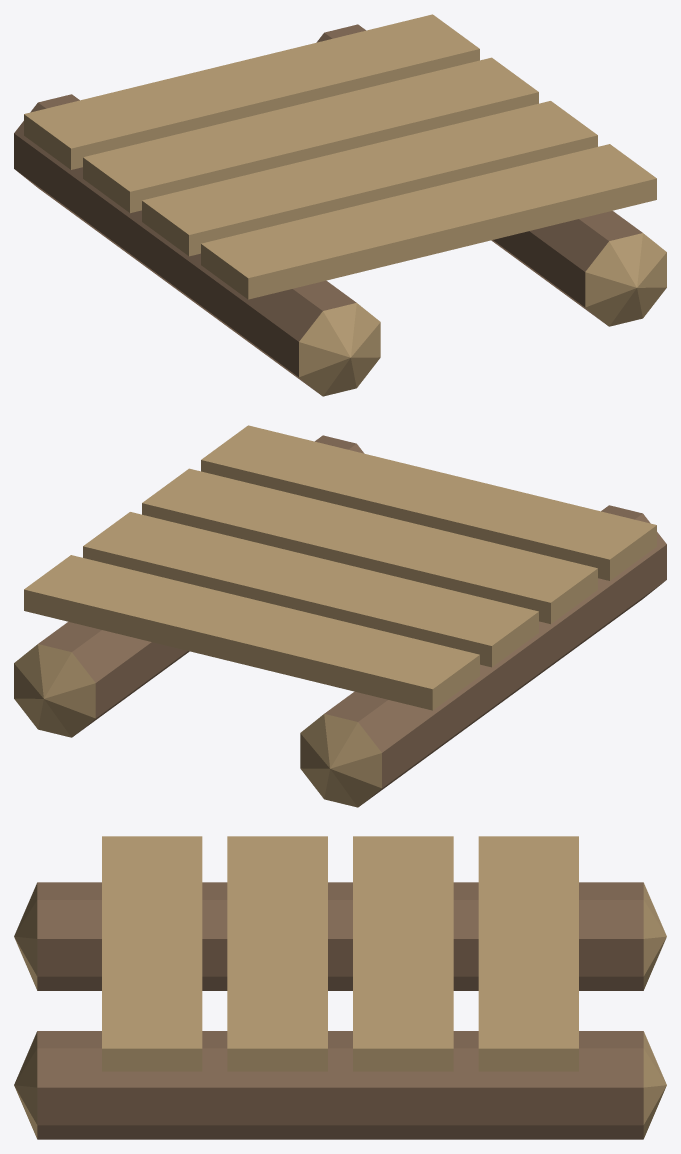
The model's file is Beach_Prop_Docks_Straight.obj.
The picture shows the model from 3 angles, top to bottom: view 1: azimuth 30°, elevation 25°; view 2: azimuth 150°, elevation 25°; view 3: azimuth 270°, elevation 25°; orthographic projection. The views are drawn at different scales.
Visible parts, largest first — view 1: object2, object1, object3, object6, object5, object4; view 2: object3, object6, object2, object1, object5, object4; view 3: object4, object5, object1, object2, object3, object6.
Boxes of the visible parts, x1,y1,x2,y2 form: object2: [201, 144, 656, 299]; object1: [83, 57, 538, 213]; object3: [24, 14, 479, 169]; object6: [142, 101, 597, 256]; object5: [14, 94, 380, 396]; object4: [316, 24, 666, 326]; object3: [24, 555, 479, 710]; object6: [142, 468, 597, 624]; object2: [201, 425, 656, 580]; object1: [83, 512, 538, 667]; object5: [300, 505, 666, 807]; object4: [14, 435, 364, 737]; object4: [14, 1031, 666, 1139]; object5: [14, 882, 666, 990]; object1: [353, 836, 453, 1071]; object2: [102, 836, 202, 1071]; object3: [478, 836, 578, 1071]; object6: [227, 836, 327, 1071].
Size of the model in its own units: 1 by 0.25 by 1.3.
